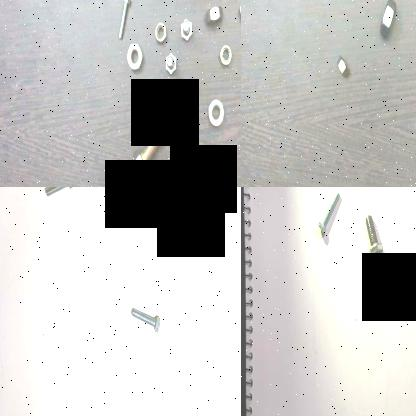Bolts: (130, 125, 166, 181), (156, 218, 192, 260), (314, 188, 342, 240), (360, 209, 383, 268), (128, 304, 162, 334), (110, 0, 130, 41), (137, 75, 156, 105), (42, 187, 73, 202), (177, 14, 193, 42), (161, 49, 177, 73)
NUTS: (376, 0, 396, 44), (177, 142, 199, 180), (202, 96, 223, 130), (123, 40, 144, 72), (335, 51, 350, 87), (204, 2, 222, 26), (216, 42, 232, 64), (152, 22, 166, 44), (235, 0, 241, 27)
